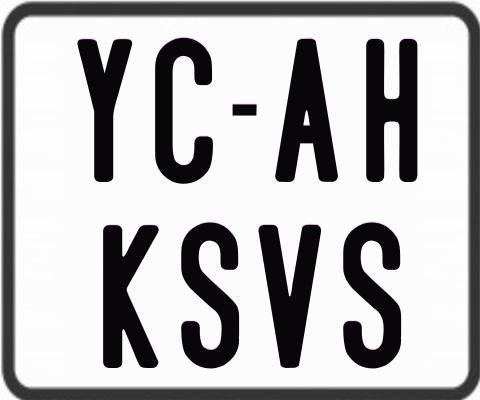A: (272, 37, 335, 184)
C: (153, 36, 214, 188)
H: (365, 38, 421, 181)
K: (103, 223, 161, 369)
S: (342, 221, 405, 373), (181, 220, 244, 370)
V: (257, 222, 322, 366)
Y: (75, 38, 132, 183)
